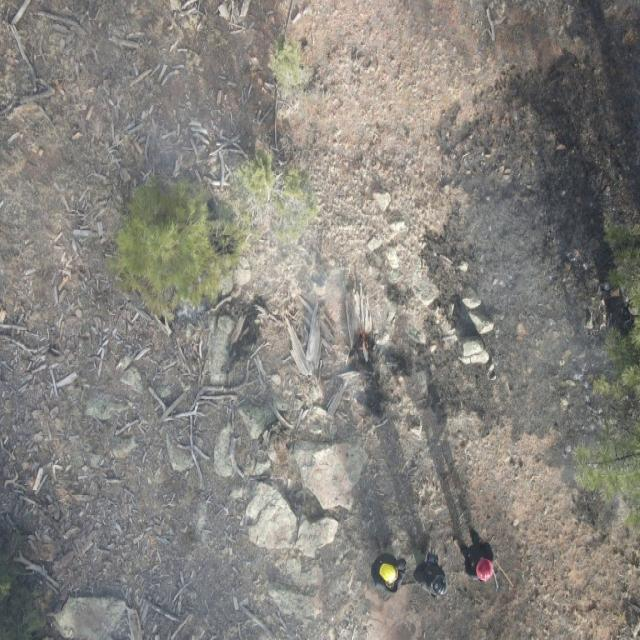fire: (355, 332, 373, 356)
smoke: (0, 2, 286, 640), (285, 185, 640, 459), (280, 450, 382, 640)
